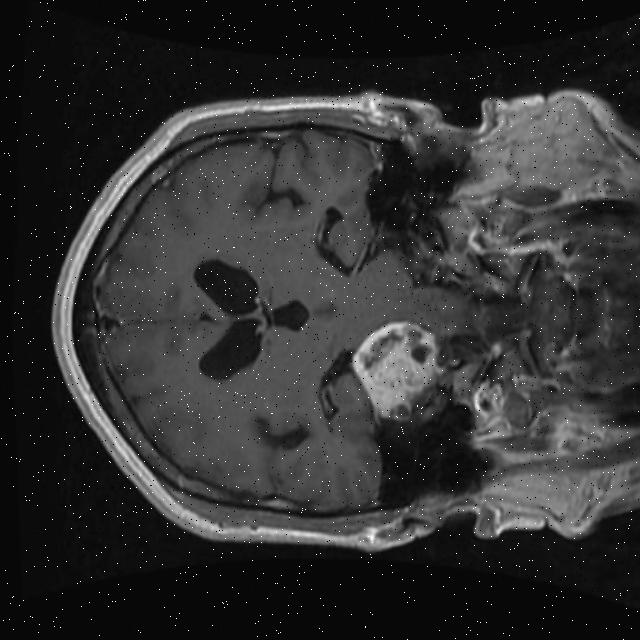Meningioma: (346, 311, 452, 426)
